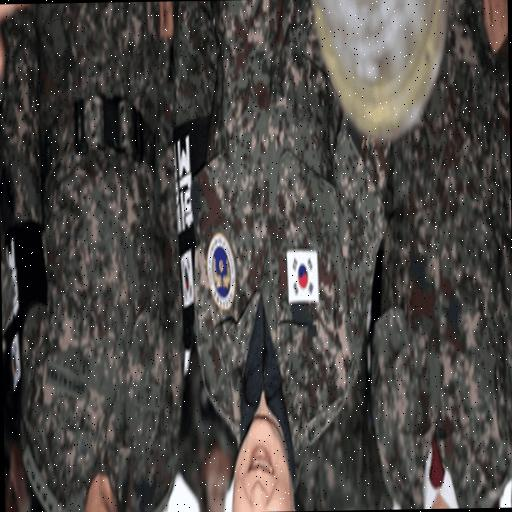korea army: (0, 2, 195, 512), (194, 0, 382, 506), (353, 0, 512, 507)
